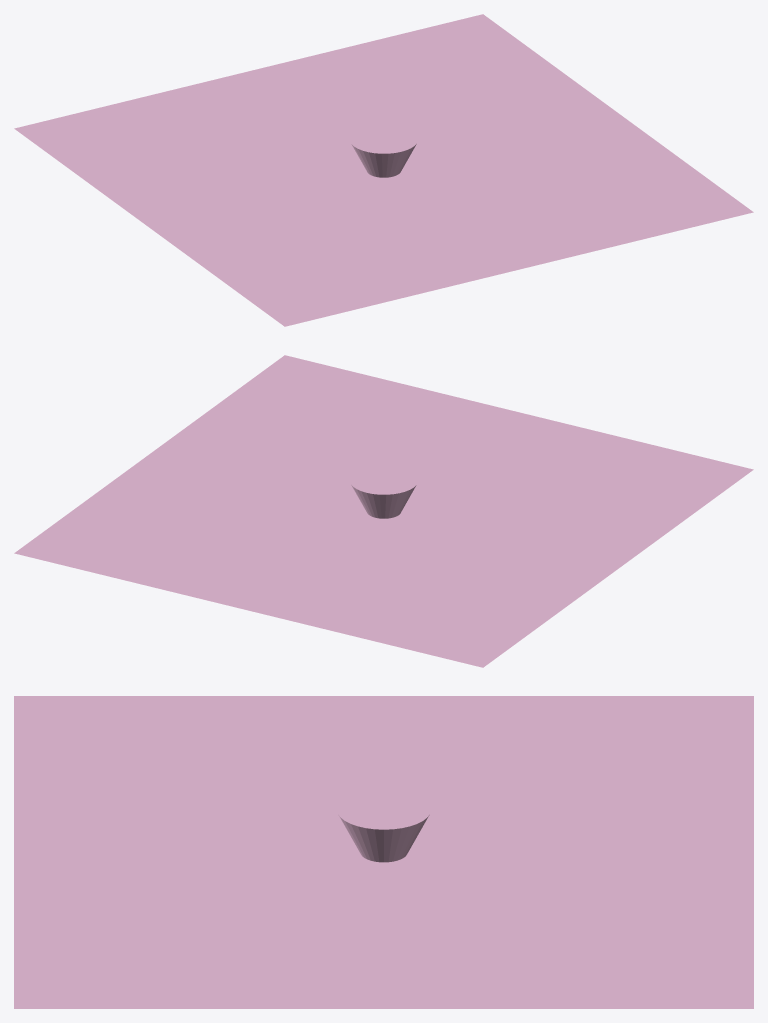
Rendered from firing_plane.fbx.
3 views of the same model, one above another, from view 1: azimuth 30°, elevation 25°; view 2: azimuth 150°, elevation 25°; view 3: azimuth 270°, elevation 25° (orthographic). The views are drawn at different scales.
Parts seen in each view (by area): view 1: firing_plane, Cone; view 2: firing_plane, Cone; view 3: firing_plane, Cone.
Part boxes in pixels (left/top/right/bottom): firing_plane: left=14, top=14, right=753, bottom=326; Cone: left=349, top=124, right=418, bottom=177; firing_plane: left=14, top=355, right=753, bottom=667; Cone: left=349, top=465, right=418, bottom=518; firing_plane: left=14, top=696, right=753, bottom=1008; Cone: left=337, top=790, right=430, bottom=862.
Bounding box in the file's own units: 1571 × 200 × 1571.
